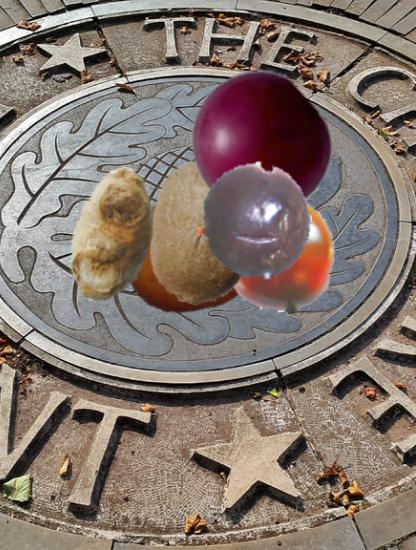Apricot: (120, 188, 257, 325)
Cherry: (188, 73, 333, 218)
Ginger: (44, 166, 183, 305)
Kiwi: (134, 158, 283, 307)
Passion: (194, 162, 313, 281)
Tomato: (221, 194, 339, 312)
